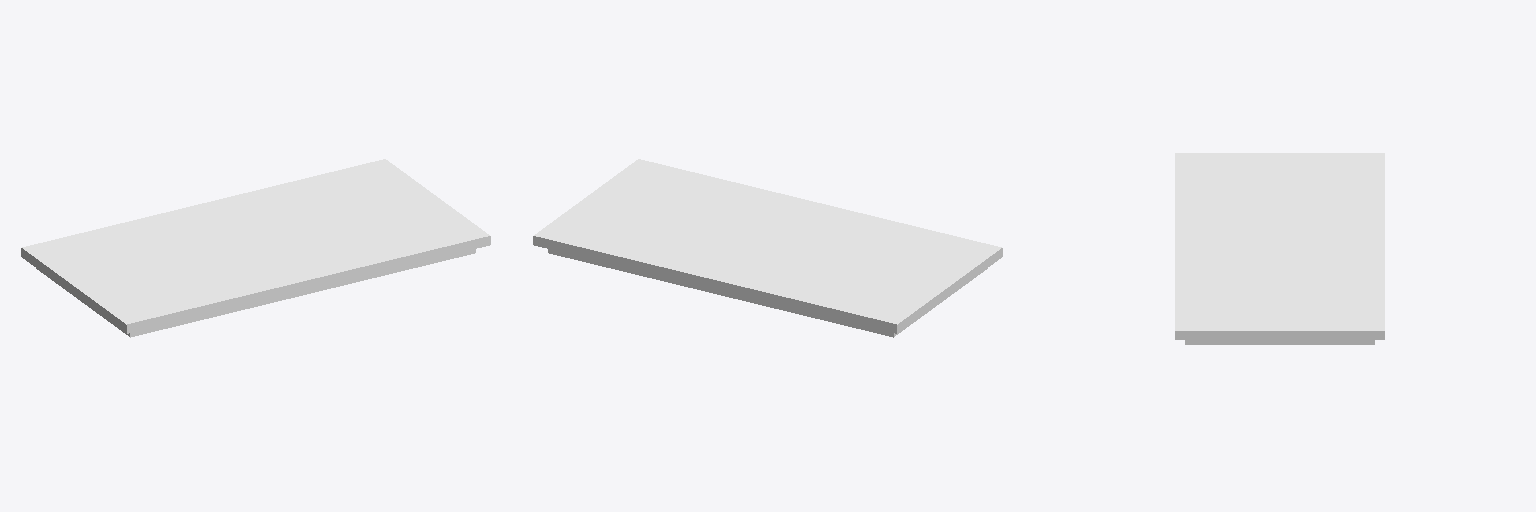
Rendered from OfficeLamp.obj.
The picture shows the model from 3 angles: view 1: azimuth 30°, elevation 25°; view 2: azimuth 150°, elevation 25°; view 3: azimuth 270°, elevation 25°; orthographic projection.
Parts seen in each view (by area): view 1: object 1; view 2: object 1; view 3: object 1.
Part boxes in pixels (left/top/right/bottom): object 1: left=21, top=159, right=490, bottom=337; object 1: left=533, top=159, right=1002, bottom=337; object 1: left=1175, top=153, right=1384, bottom=344.
Bounding box in the file's own units: 4 × 0.3 × 2.